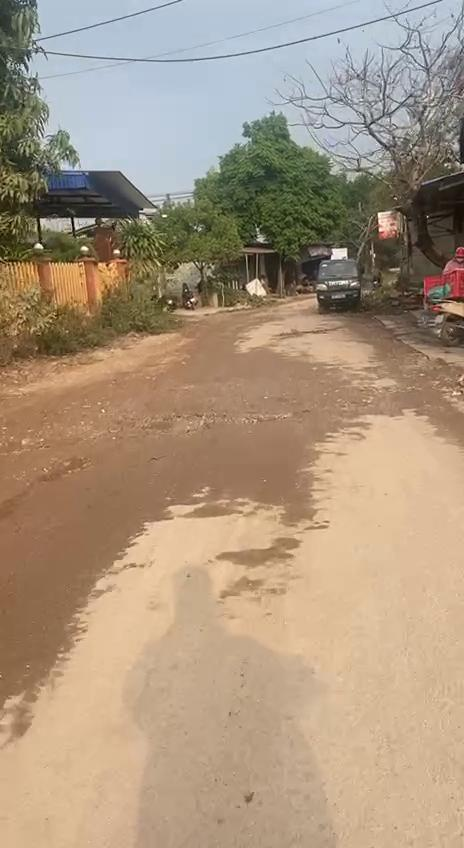pothole: (139, 410, 294, 435)
